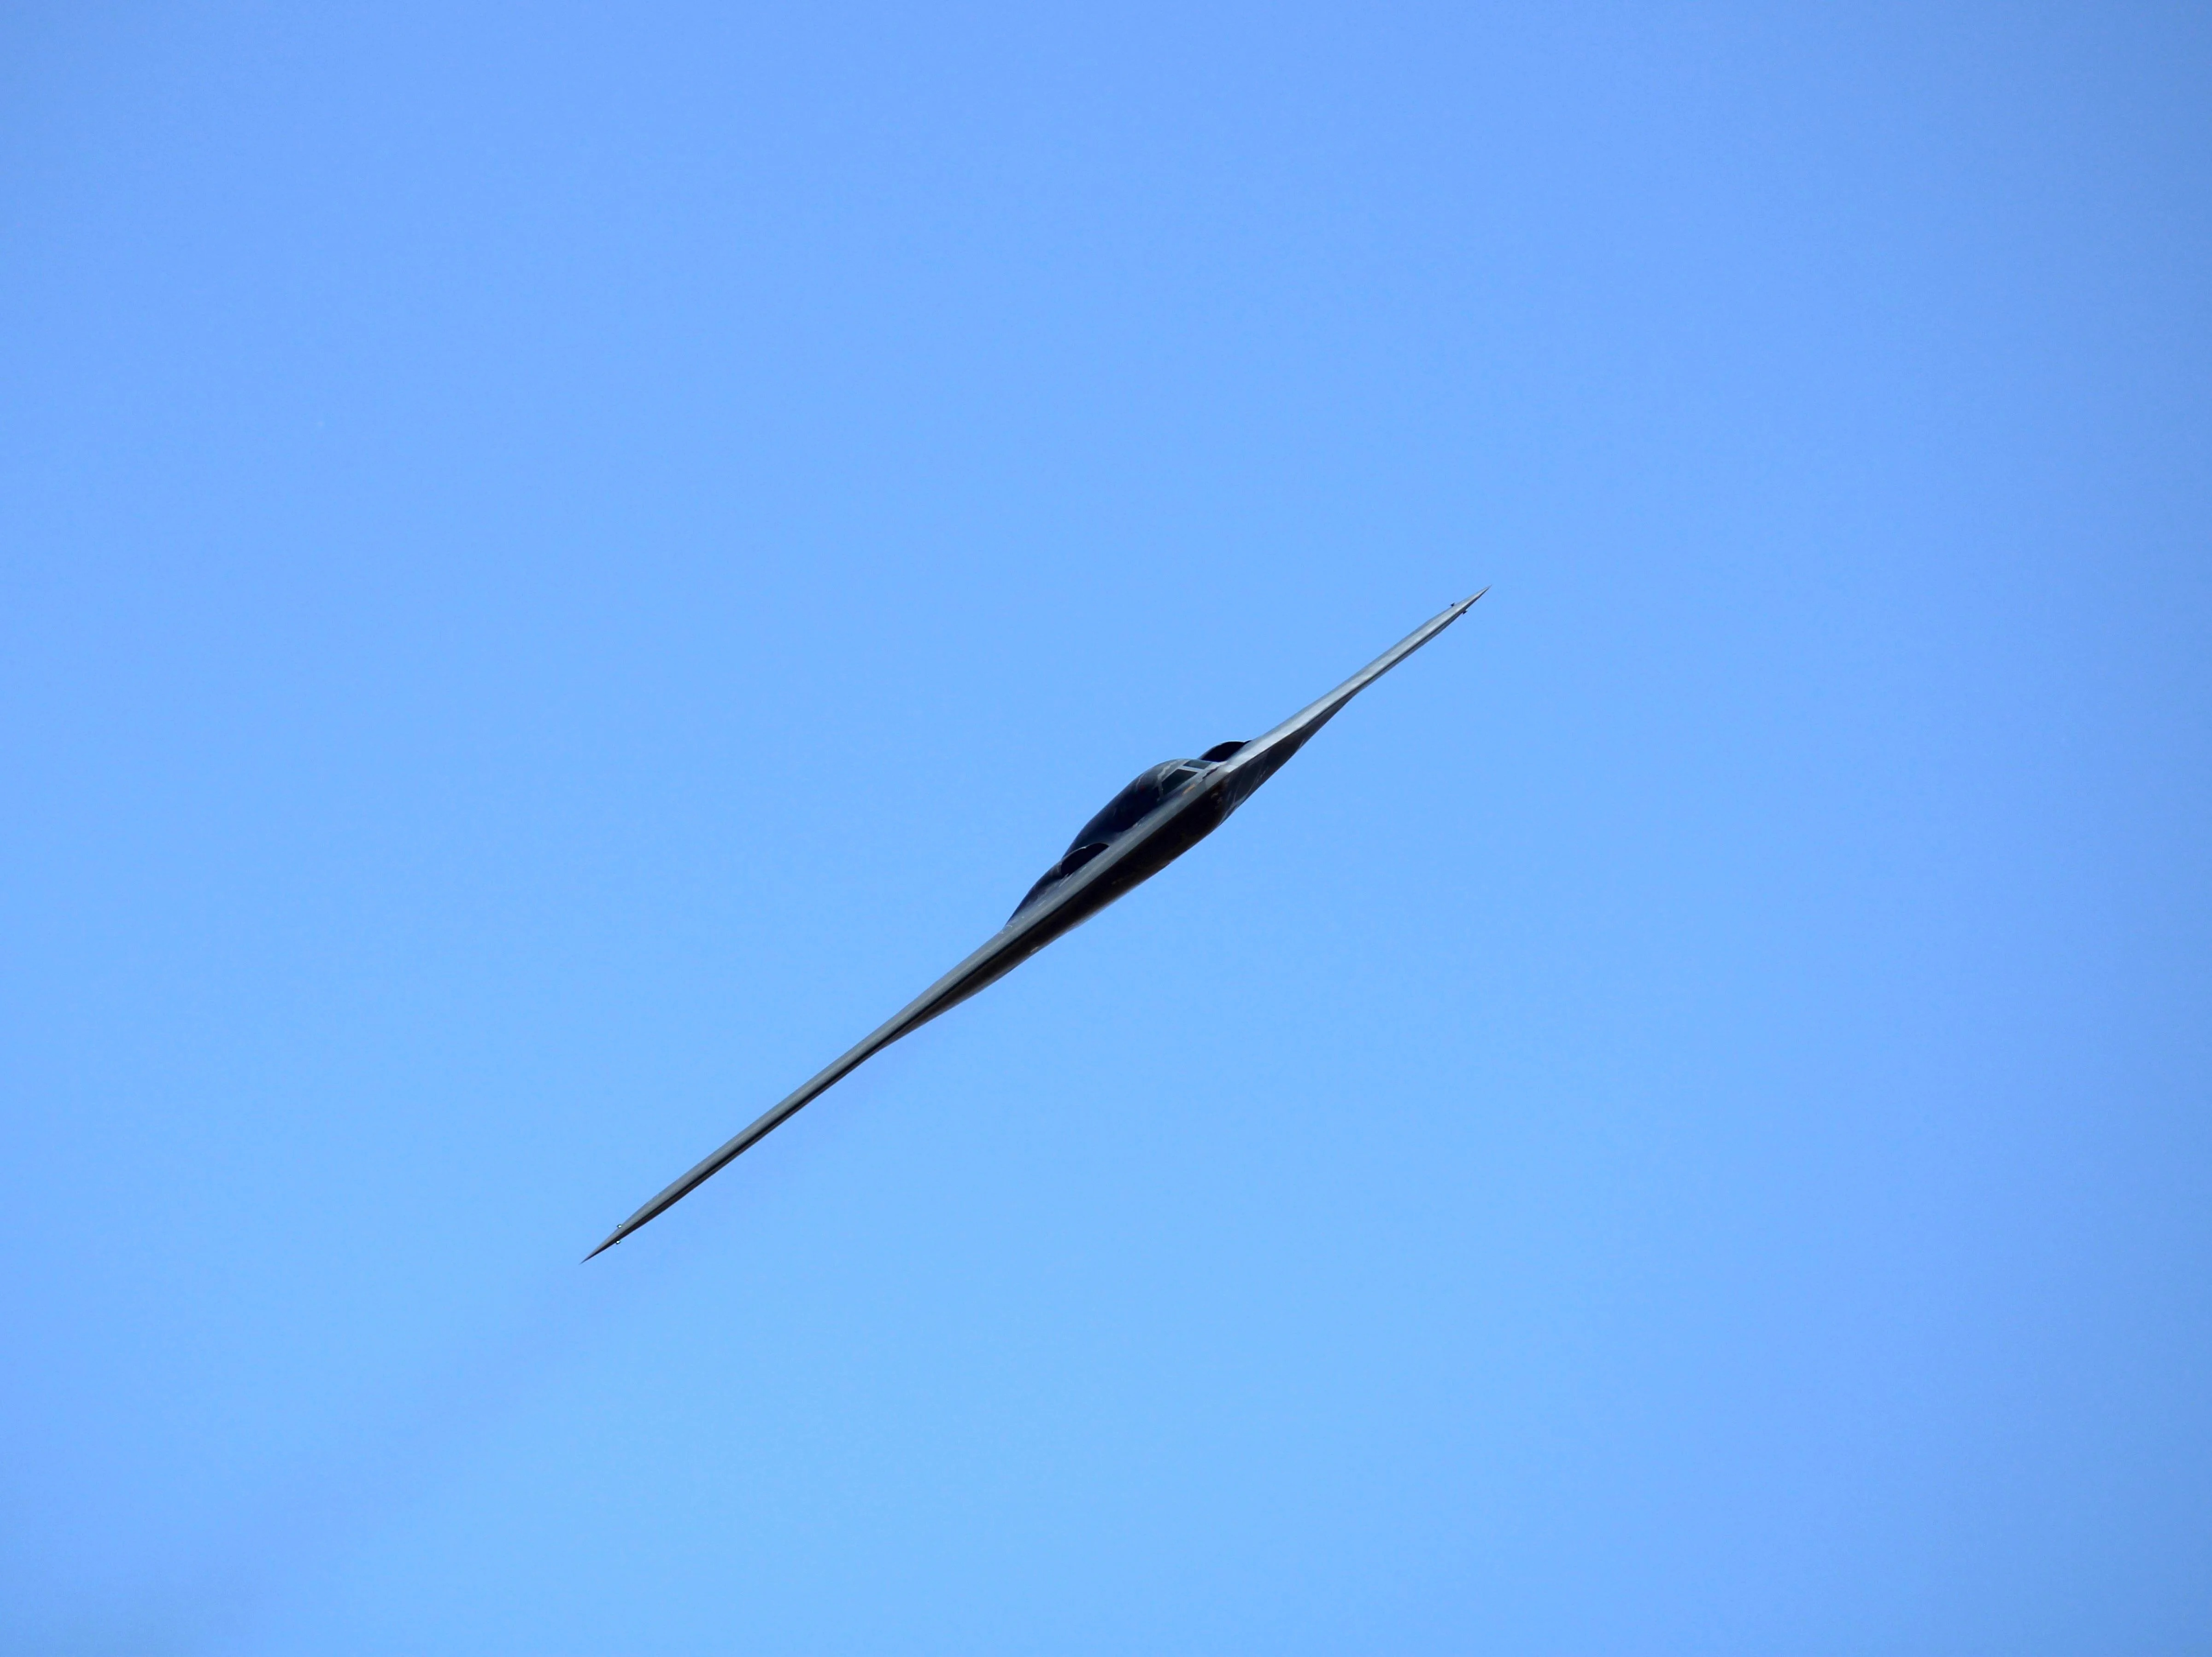B2: (578, 585, 1491, 1265)
